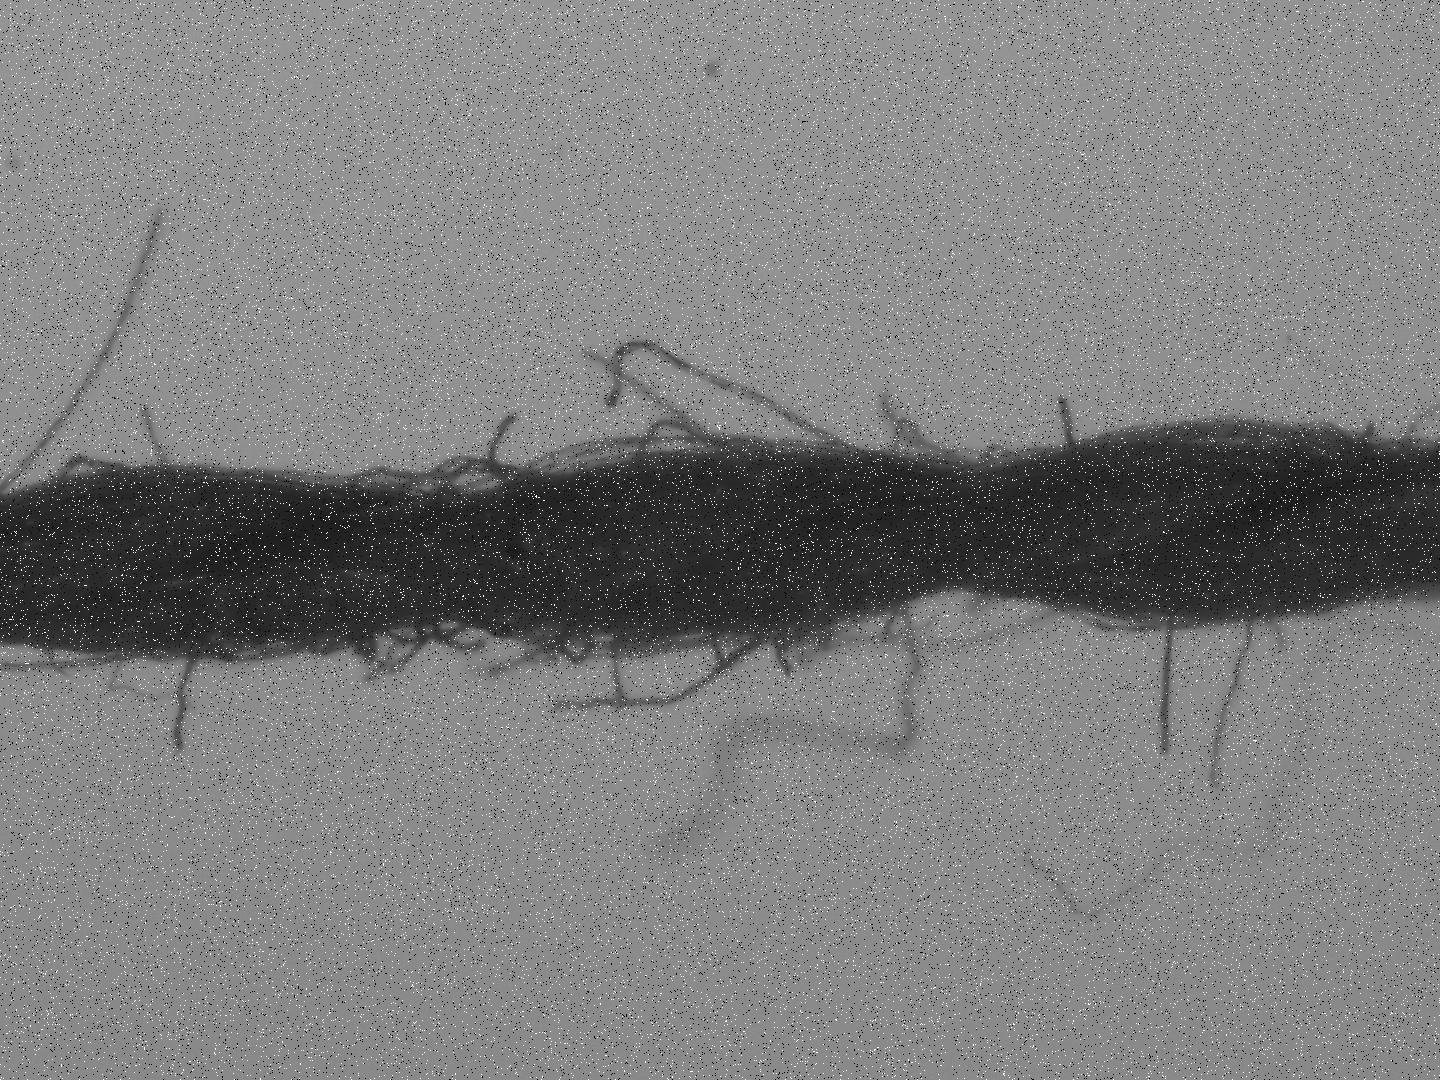loop_fiber: (395, 453, 543, 497), (636, 420, 751, 465), (1062, 604, 1211, 636), (893, 416, 958, 465), (50, 455, 137, 490), (376, 621, 469, 648), (542, 636, 600, 667), (230, 641, 305, 661), (979, 440, 1019, 471)
